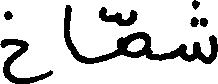X: (0, 6, 49, 83), (183, 0, 217, 68), (120, 5, 148, 63), (64, 0, 76, 64)
